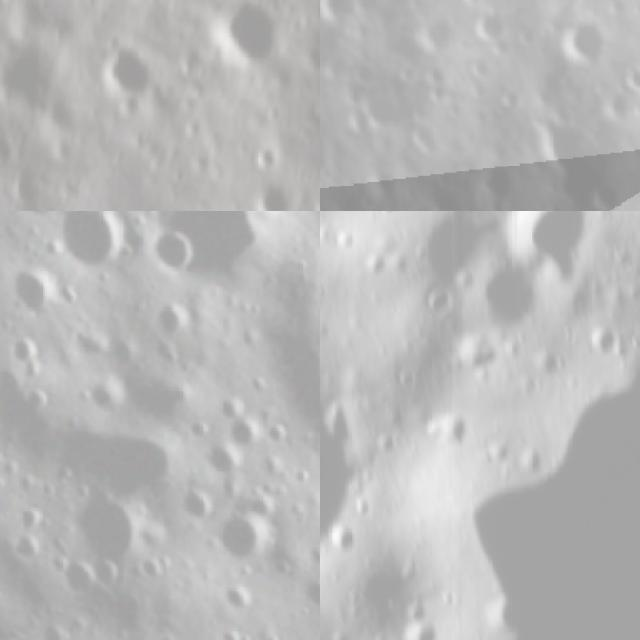crater: (40, 374, 196, 529), (102, 211, 306, 319), (49, 476, 166, 593), (320, 375, 381, 560), (29, 211, 146, 292), (452, 254, 548, 345), (389, 211, 487, 294), (484, 211, 593, 283), (202, 494, 285, 578), (209, 0, 287, 76), (0, 33, 70, 113), (135, 214, 207, 286), (0, 249, 68, 322), (95, 36, 167, 102), (46, 543, 109, 606), (75, 364, 135, 424), (235, 475, 291, 530), (81, 545, 137, 600), (210, 569, 264, 623), (1, 519, 52, 570), (128, 539, 179, 590), (146, 292, 198, 342), (66, 316, 116, 366), (207, 384, 254, 431), (223, 408, 270, 455), (562, 13, 608, 60), (0, 323, 43, 371), (578, 322, 616, 375), (396, 610, 463, 640), (427, 412, 472, 452), (257, 412, 298, 453), (4, 166, 44, 208), (292, 562, 320, 614), (205, 611, 254, 640), (14, 379, 52, 416), (6, 460, 43, 497), (322, 522, 358, 560), (253, 182, 299, 211), (249, 139, 288, 173), (415, 16, 452, 51), (182, 413, 217, 449), (468, 8, 507, 40), (0, 446, 29, 486), (320, 0, 359, 27), (594, 175, 623, 211), (0, 132, 27, 169), (605, 88, 634, 122), (268, 624, 320, 640), (124, 89, 145, 121), (320, 118, 333, 166), (0, 464, 13, 501), (306, 189, 320, 211), (628, 65, 640, 88)
